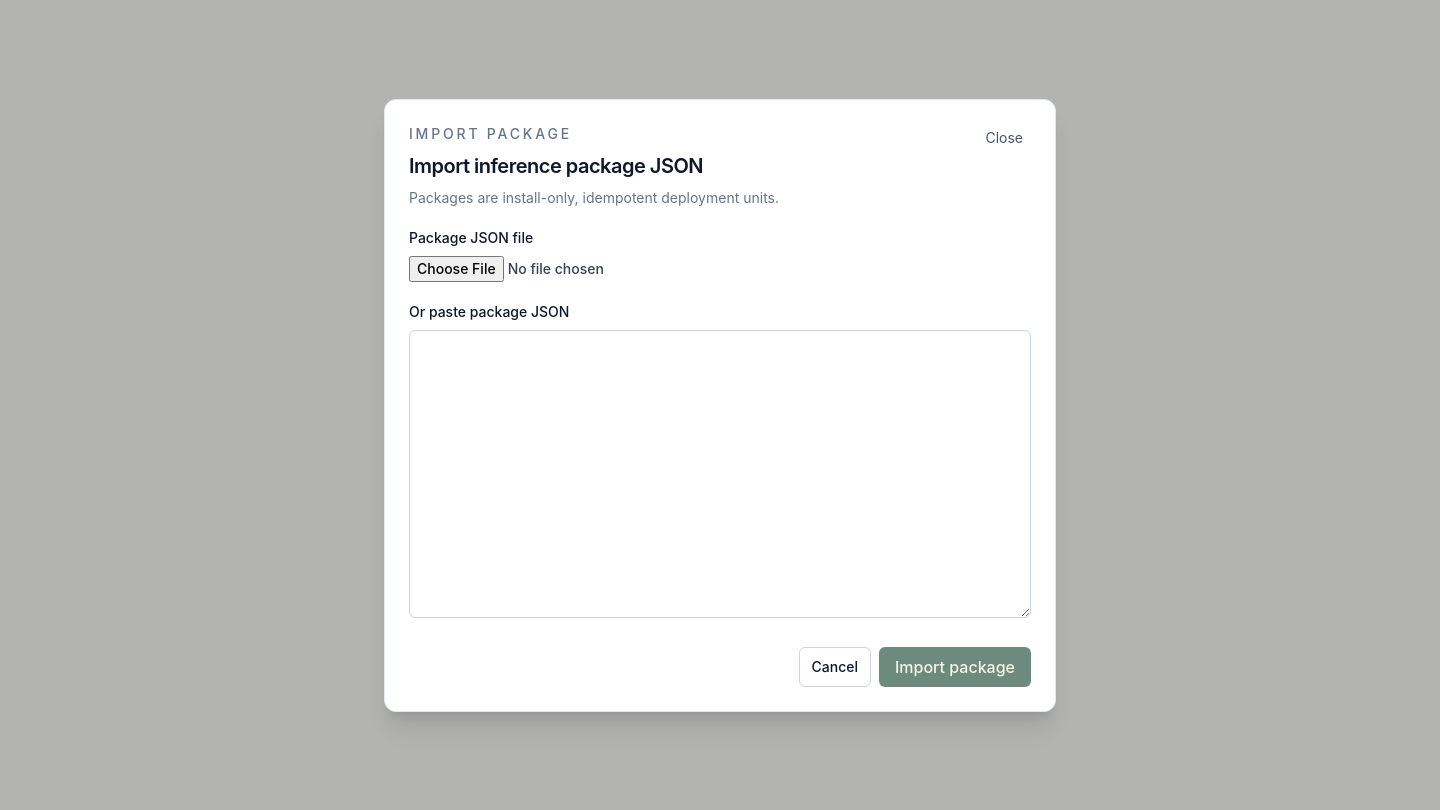
validates JSON syntax
Type "not json" into the text box labelled "Or paste package JSON" at (720, 474), box 409,330 -> 1031,618
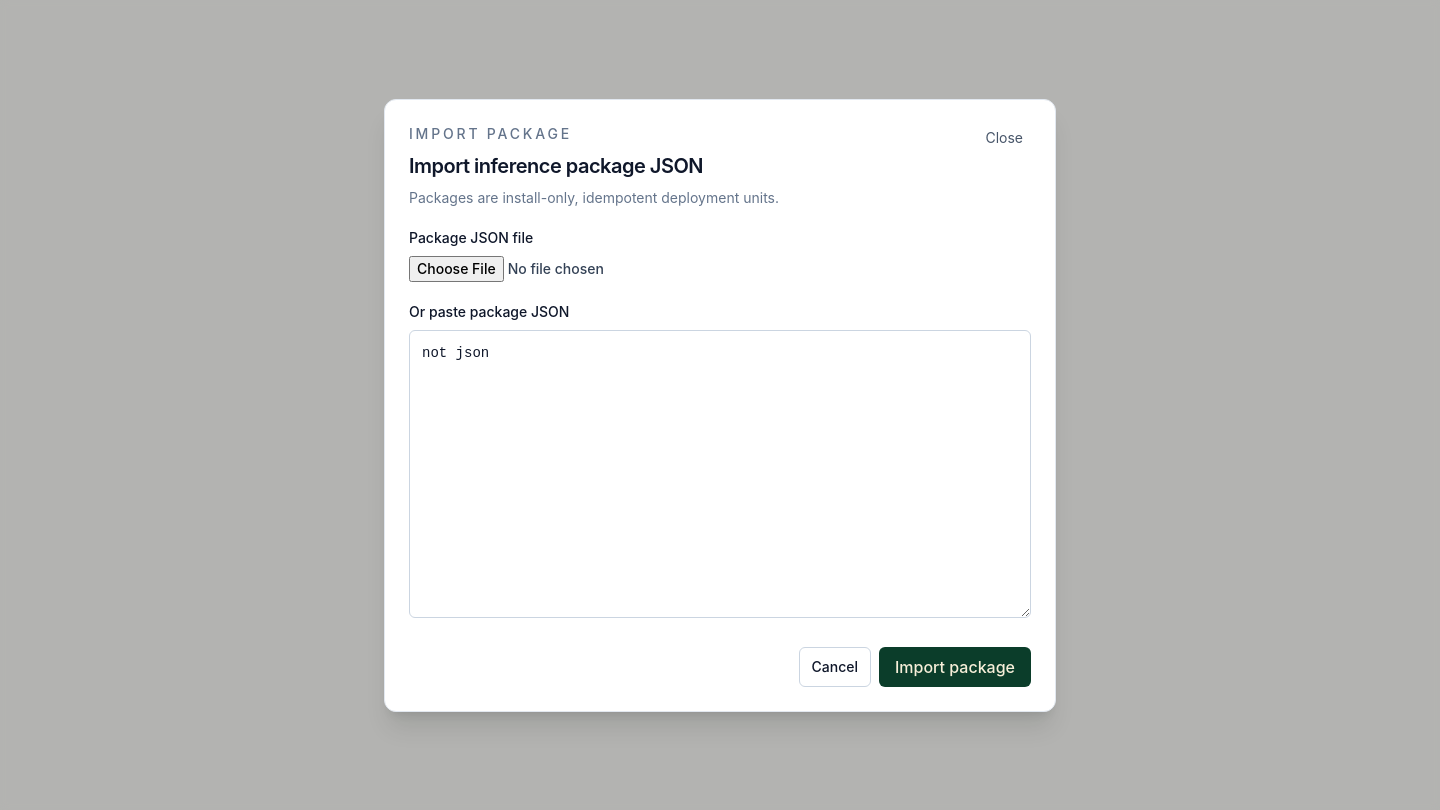
Click the button "Import package" at (955, 666), box 879,646 -> 1031,686
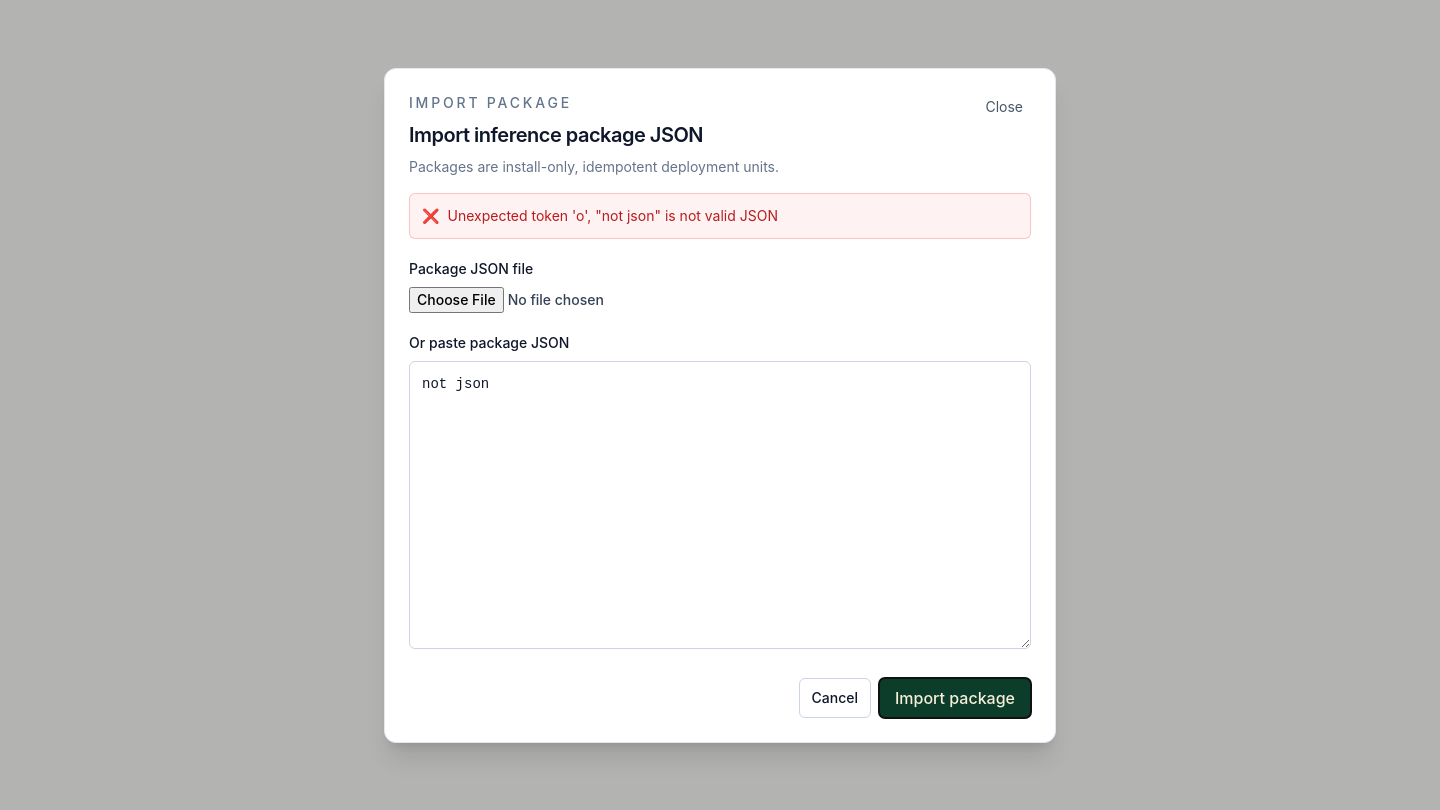
Expected: the message reads "❌ Unexpected token 'o', \"not json\" is not valid JSON", 448,206 -> 778,224
